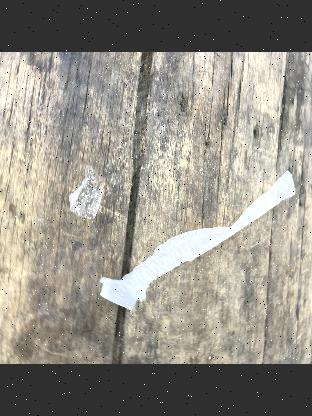Others: (97, 170, 298, 314), (64, 167, 108, 229)
